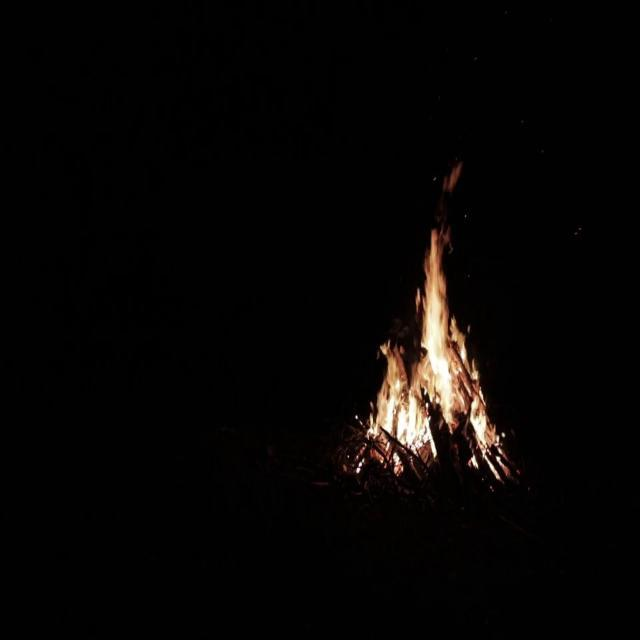Fire: (356, 207, 514, 482)
